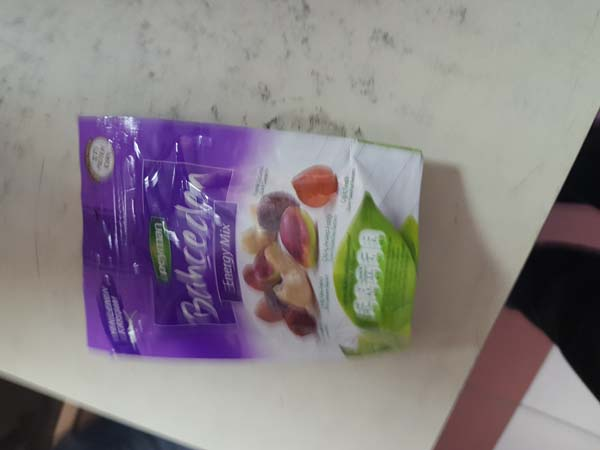bahcedenenergymix: (74, 112, 424, 360)
